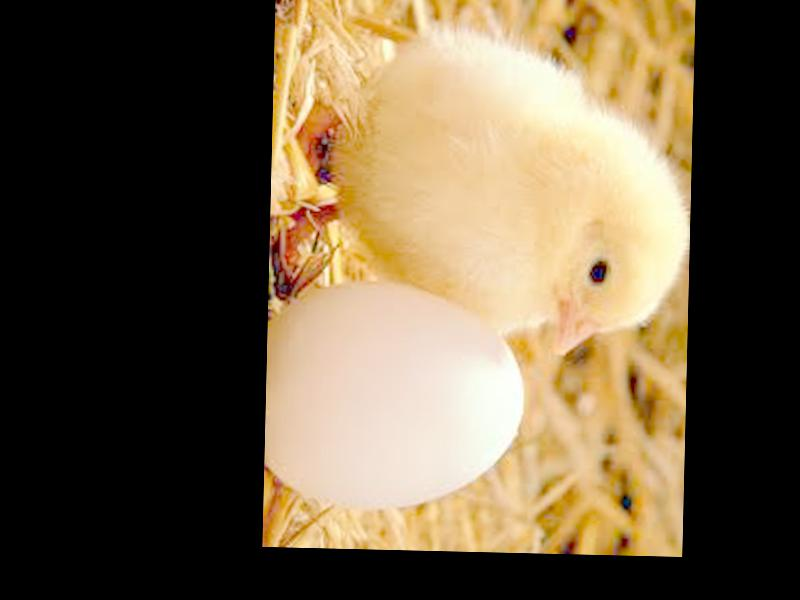Eggs: (262, 278, 528, 511)
